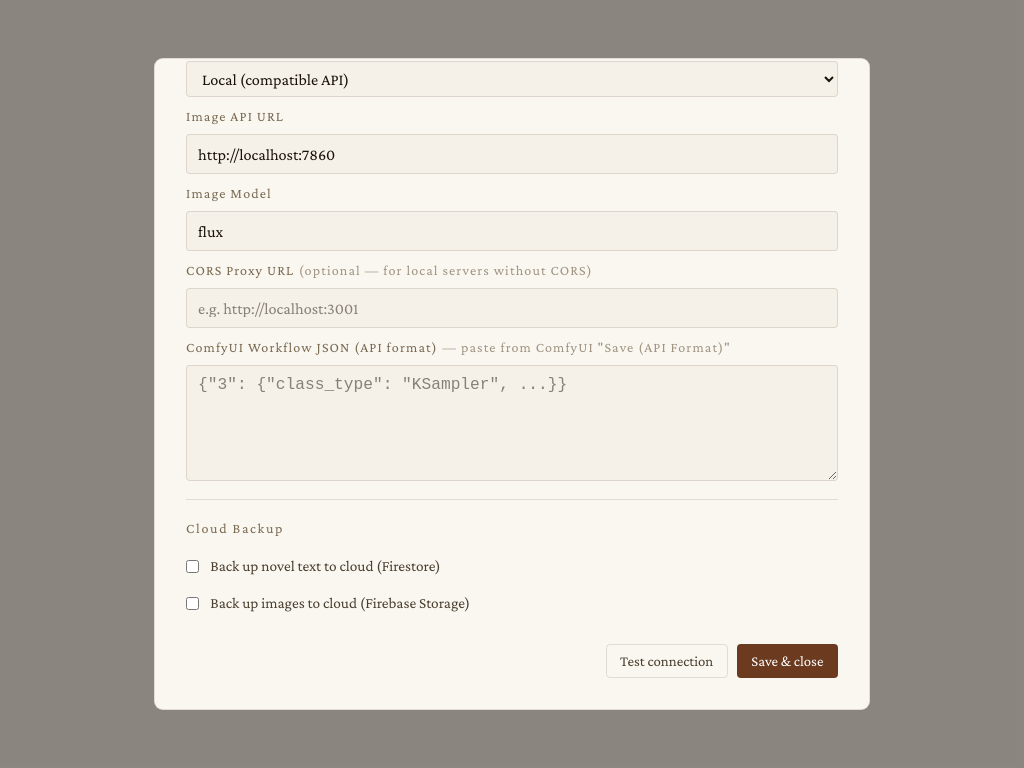
SettingsModal › handleTestConnection › shows Connected button text on success
(page scrolled)
Click the button "Test connection": (667,661) top-left (606, 644), bottom-right (728, 678)
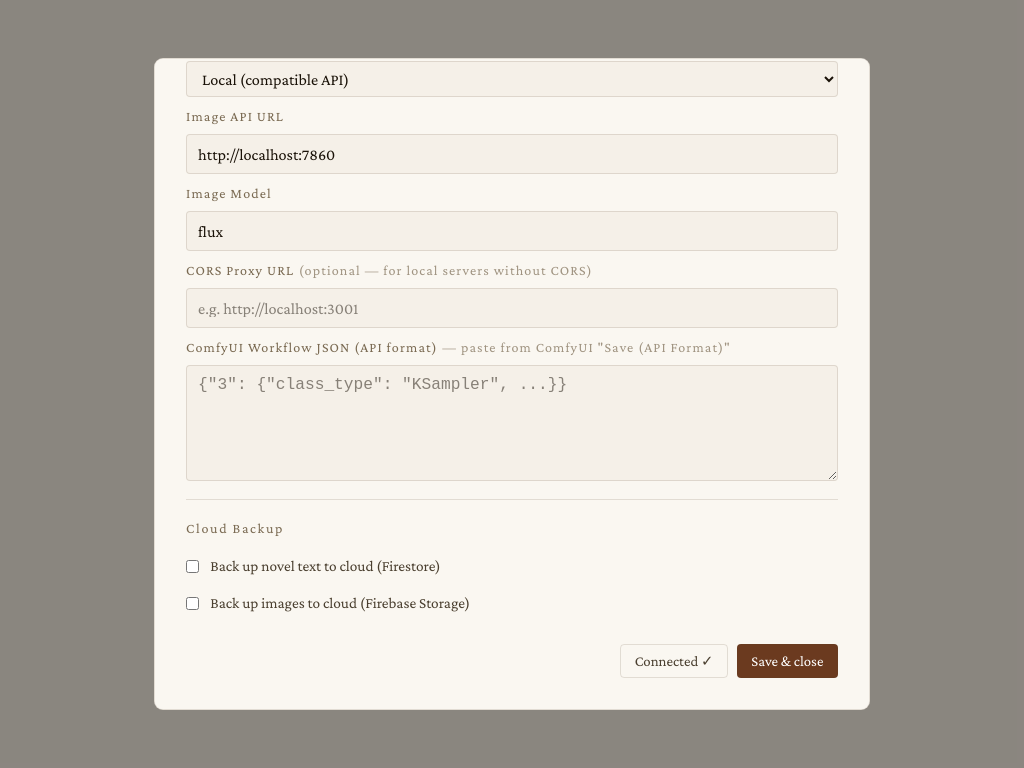
Expected: the button named "test connection" shows "Connected", top-left (620, 644), bottom-right (728, 678)
